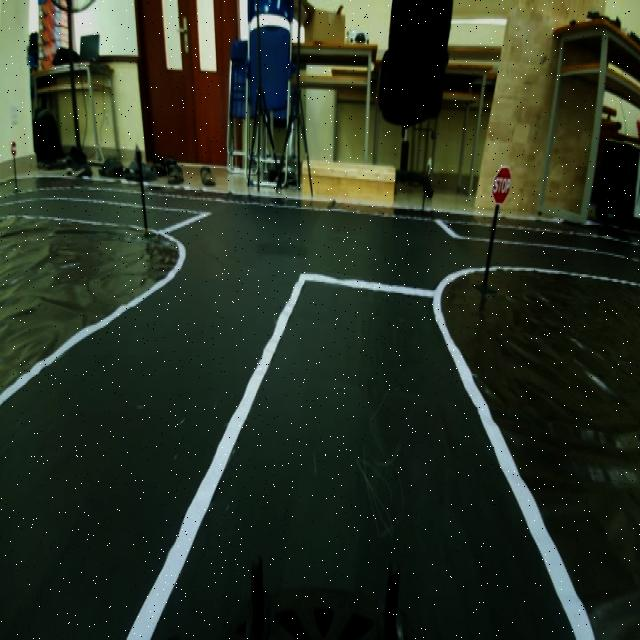stop: (488, 163, 514, 208)
